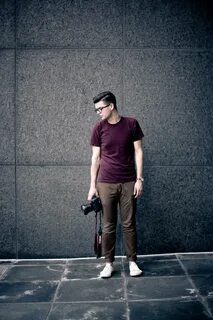awake: (86, 90, 145, 279)
